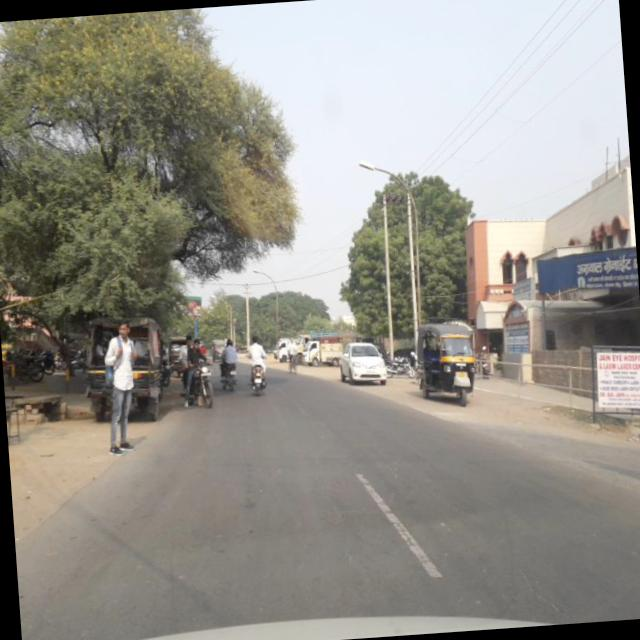pothole: (512, 560, 627, 626)
